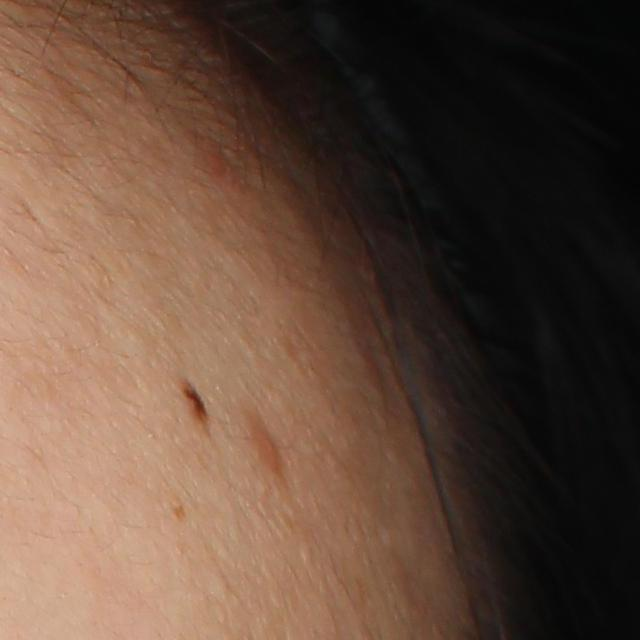nevus: (180, 374, 210, 433)
